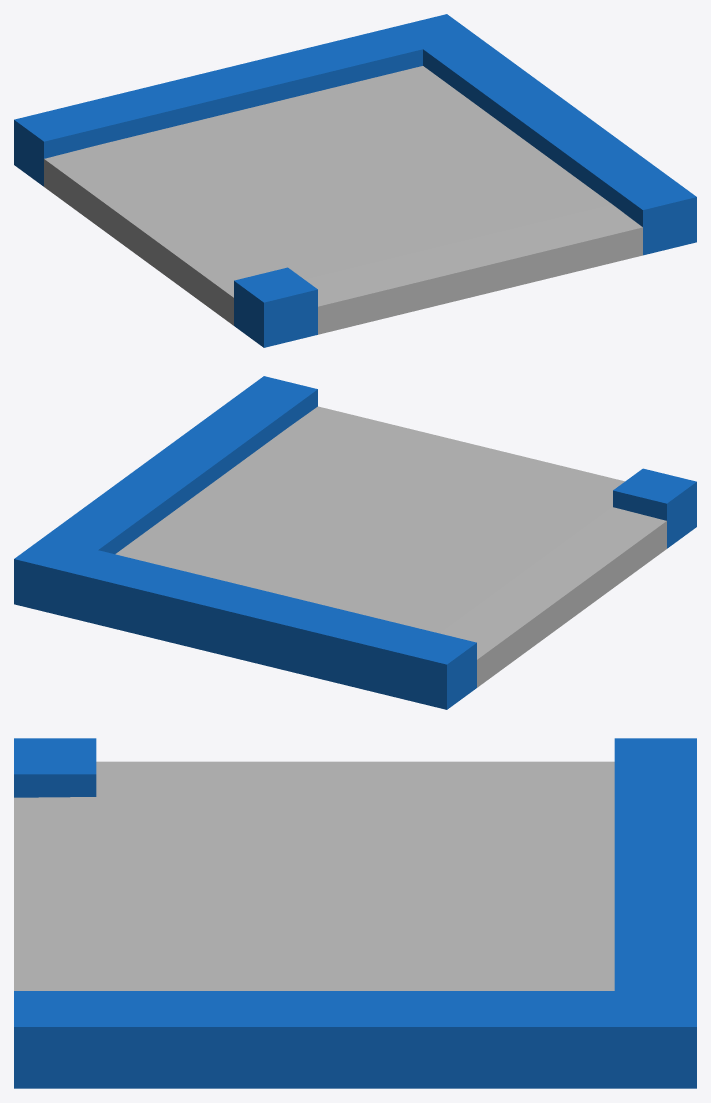
File: blue_corner.fbx
3 renders of one model, top to bottom at view 1: azimuth 30°, elevation 25°; view 2: azimuth 150°, elevation 25°; view 3: azimuth 270°, elevation 25°, orthographic. The views are drawn at different scales.
Visible parts, largest first — view 1: blue_corner; view 2: blue_corner; view 3: blue_corner.
Boxes of the visible parts, x1,y1,x2,y2 form: blue_corner: (14,14,696,347); blue_corner: (14,376,696,709); blue_corner: (14,738,696,1088).
Bounding box in the file's own units: 1 × 0.1 × 1.
Materials: 1 (1 with a texture image).
